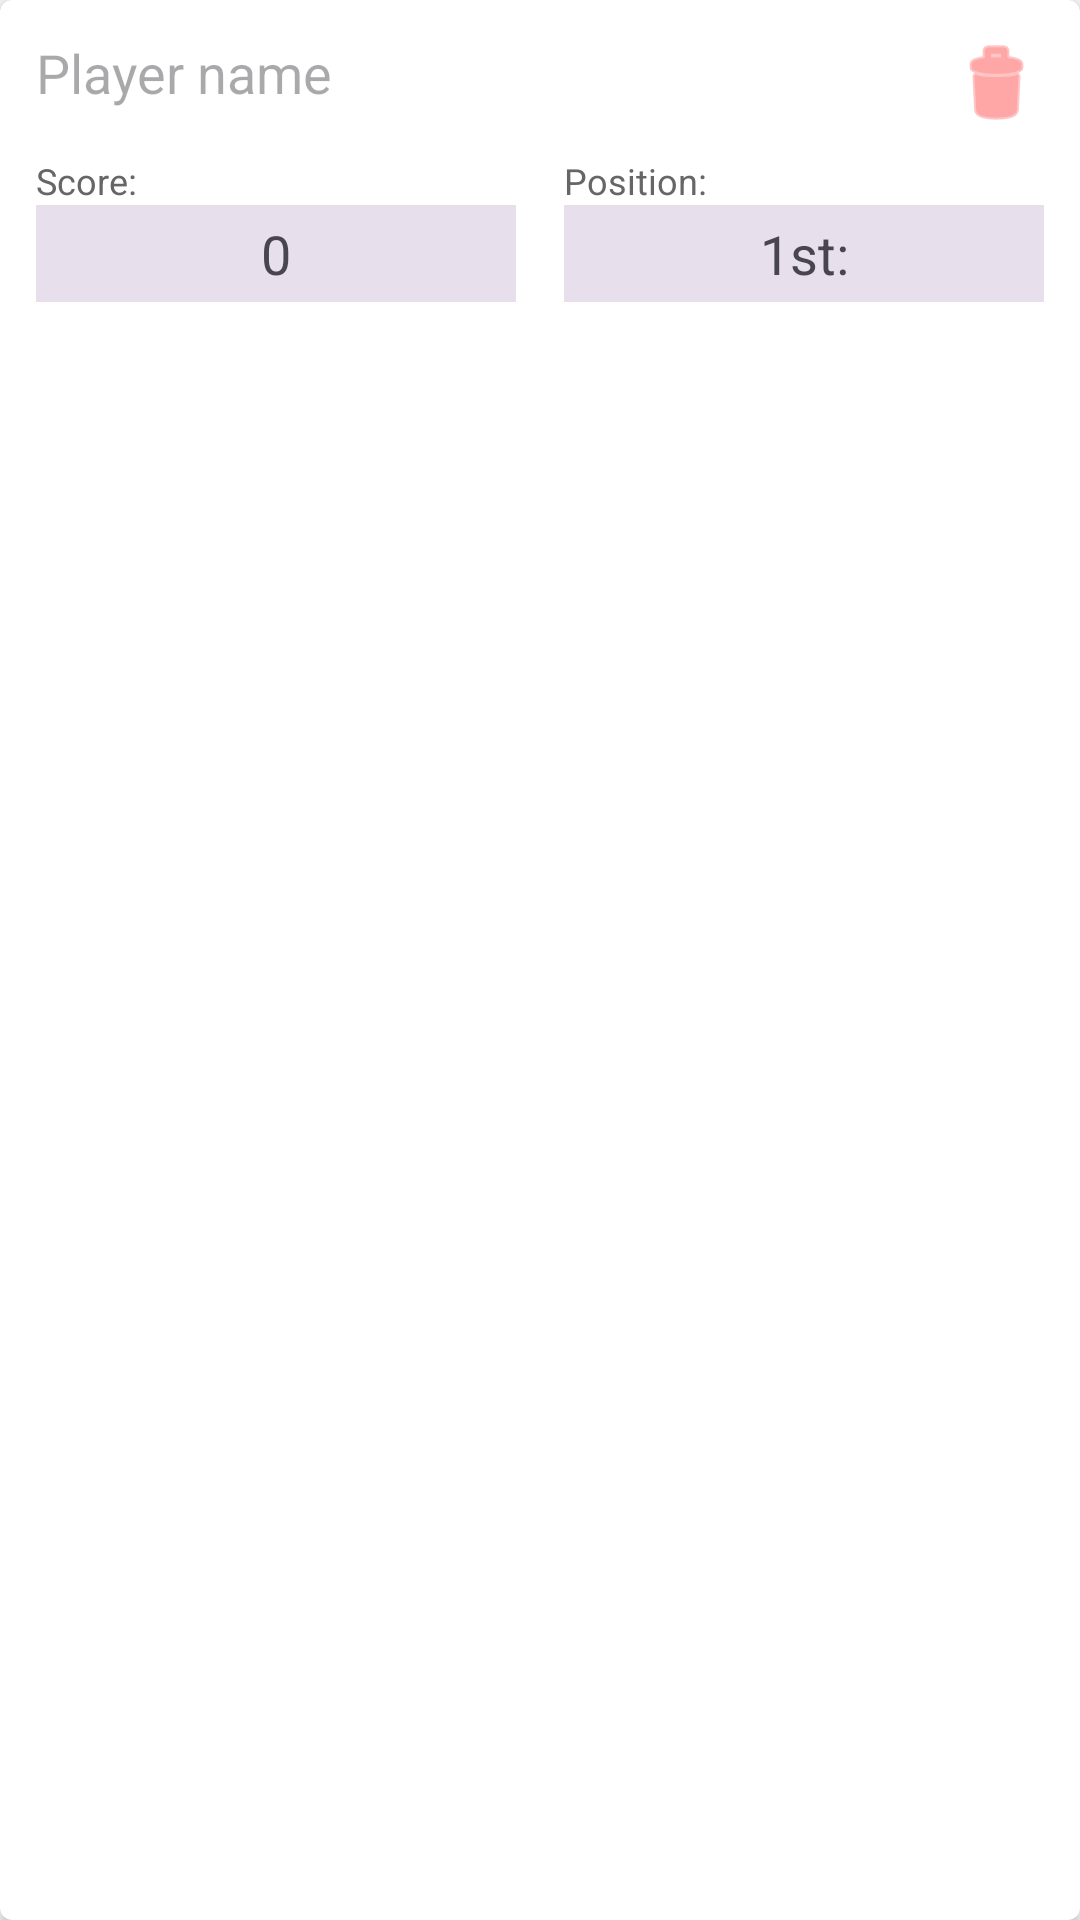

Named icons in this screenshot (1080×1920) and their centers, [x,y]:
Remove player: [996,82]
